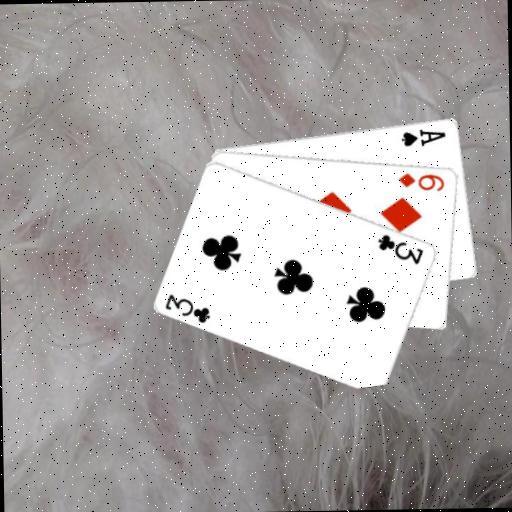3C: (375, 231, 426, 267), (162, 290, 213, 325)
6D: (396, 169, 446, 193)
AS: (399, 125, 448, 148)
